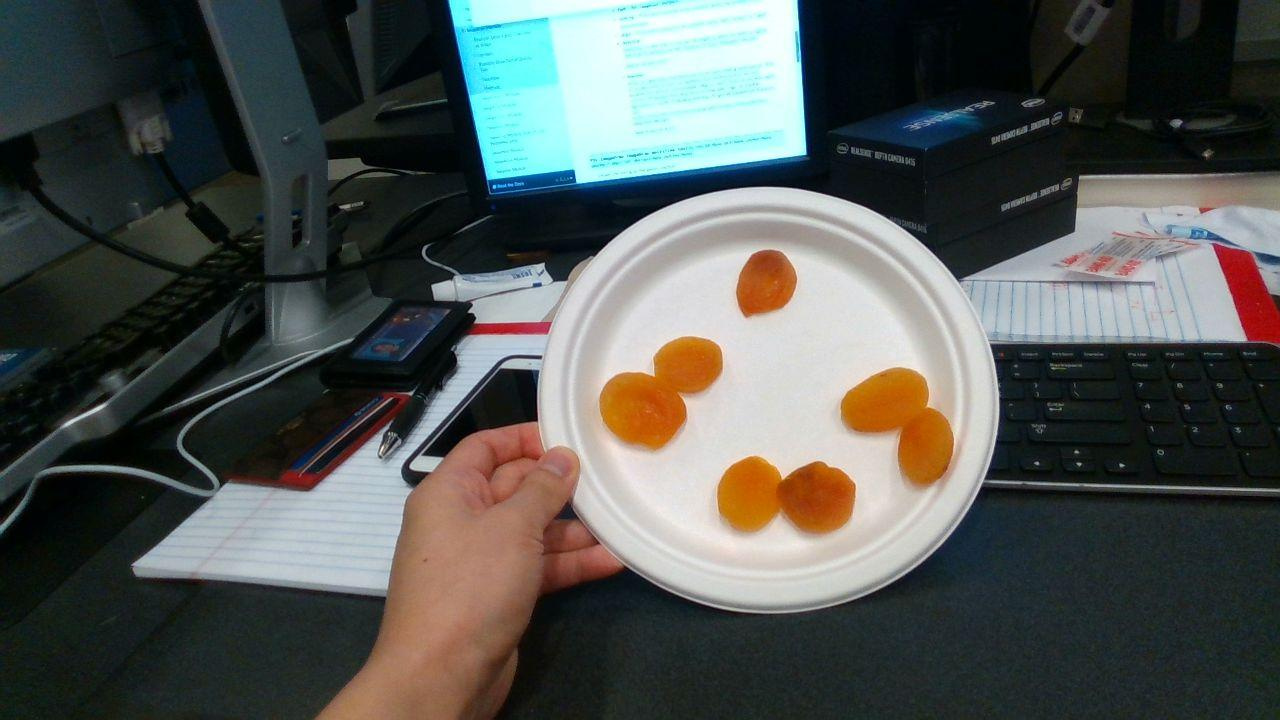apricot: (600, 373, 687, 448), (841, 368, 929, 433), (777, 461, 856, 533), (717, 456, 783, 531), (898, 408, 954, 484), (738, 250, 797, 319), (654, 337, 723, 393)
